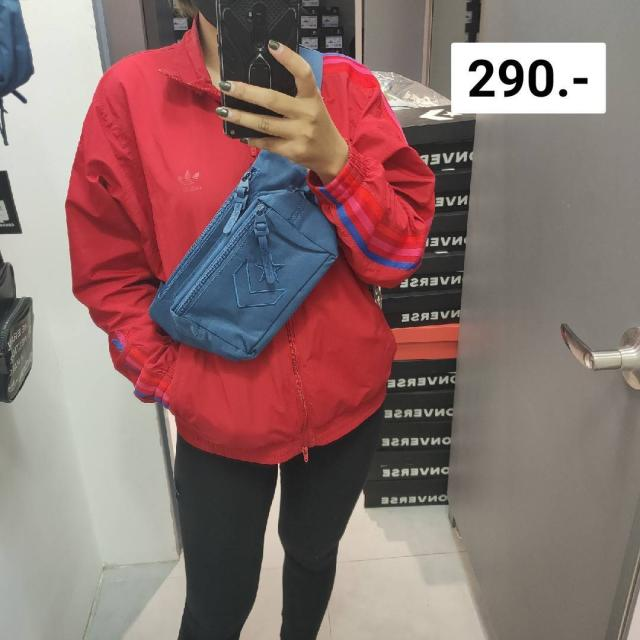Handbag: (152, 144, 338, 364)
